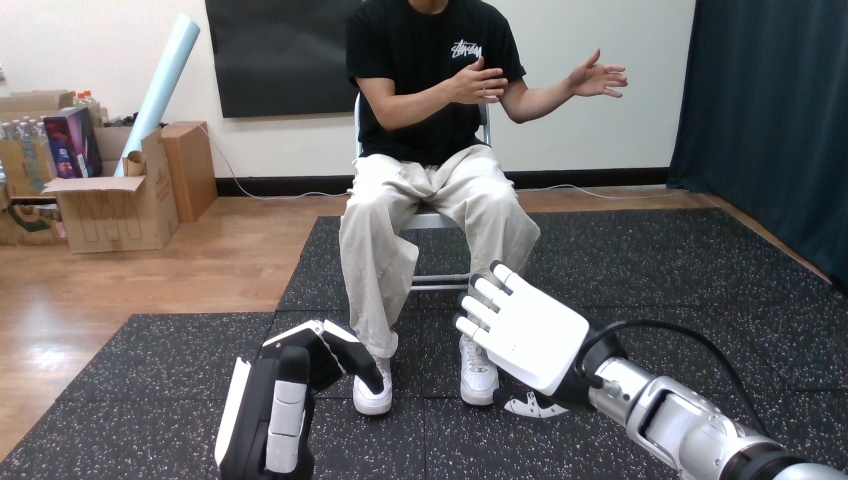left robot hand: (455, 262, 847, 479), (215, 320, 383, 479), (567, 49, 626, 97), (450, 57, 508, 103)
